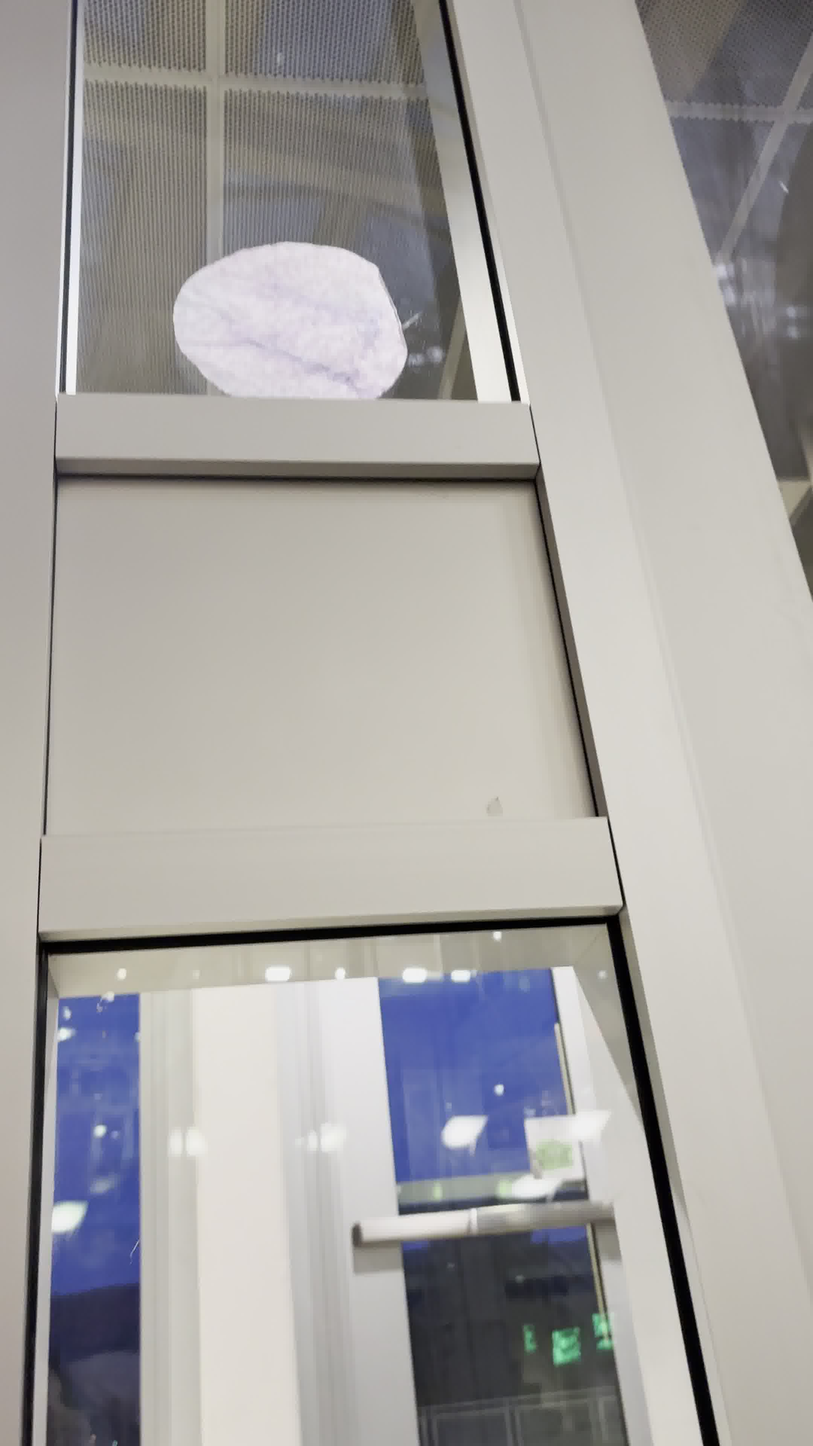Target: (169, 238, 411, 405)
